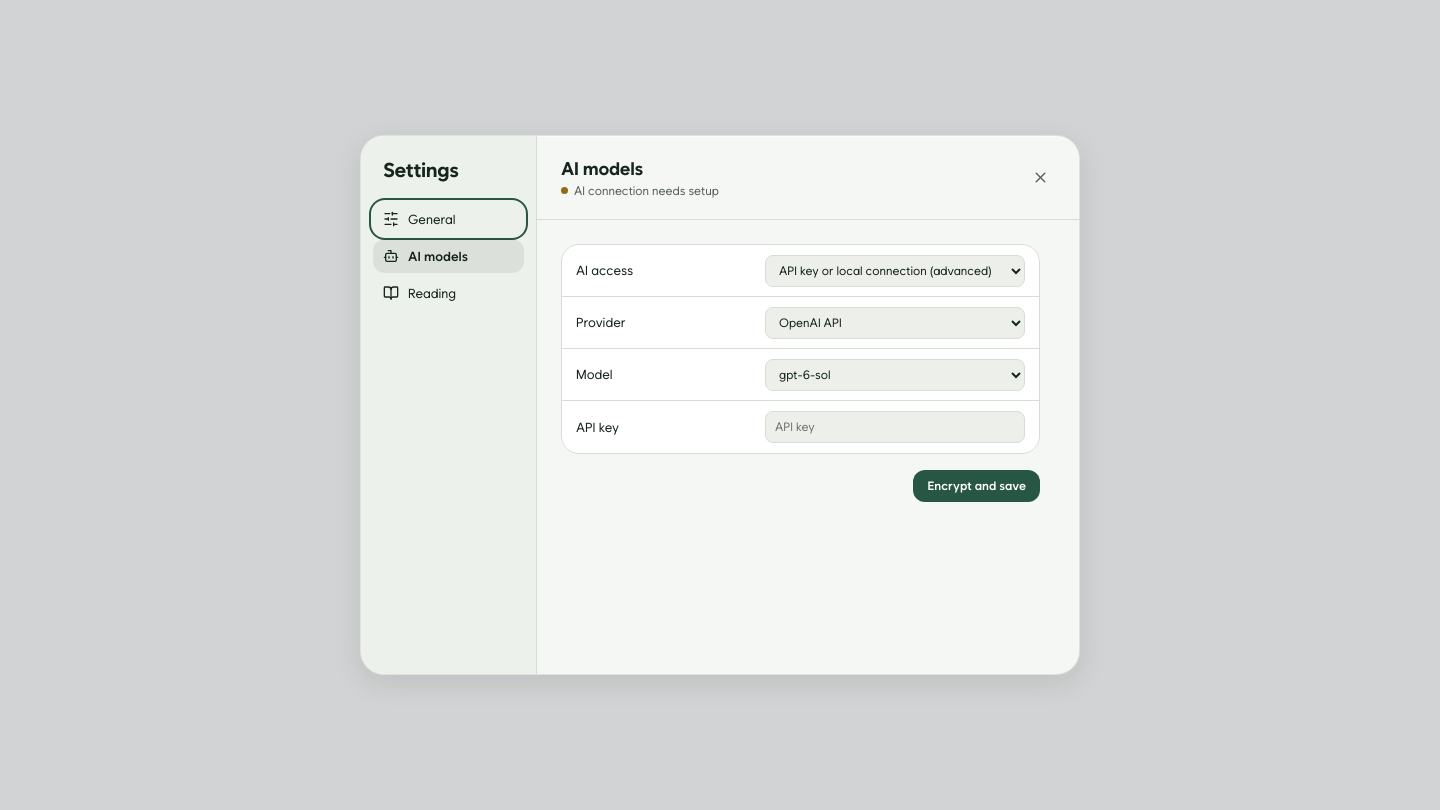
Test: settings in English › shows the dialog, its sections and the API form in English
Expected: the heading "AI models" is shown, left=561, top=158, right=643, bottom=178
Expected: the text "AI connection needs setup" is shown, left=561, top=184, right=719, bottom=198
Click the button "General".
click(448, 219)  # box left=373, top=202, right=524, bottom=236
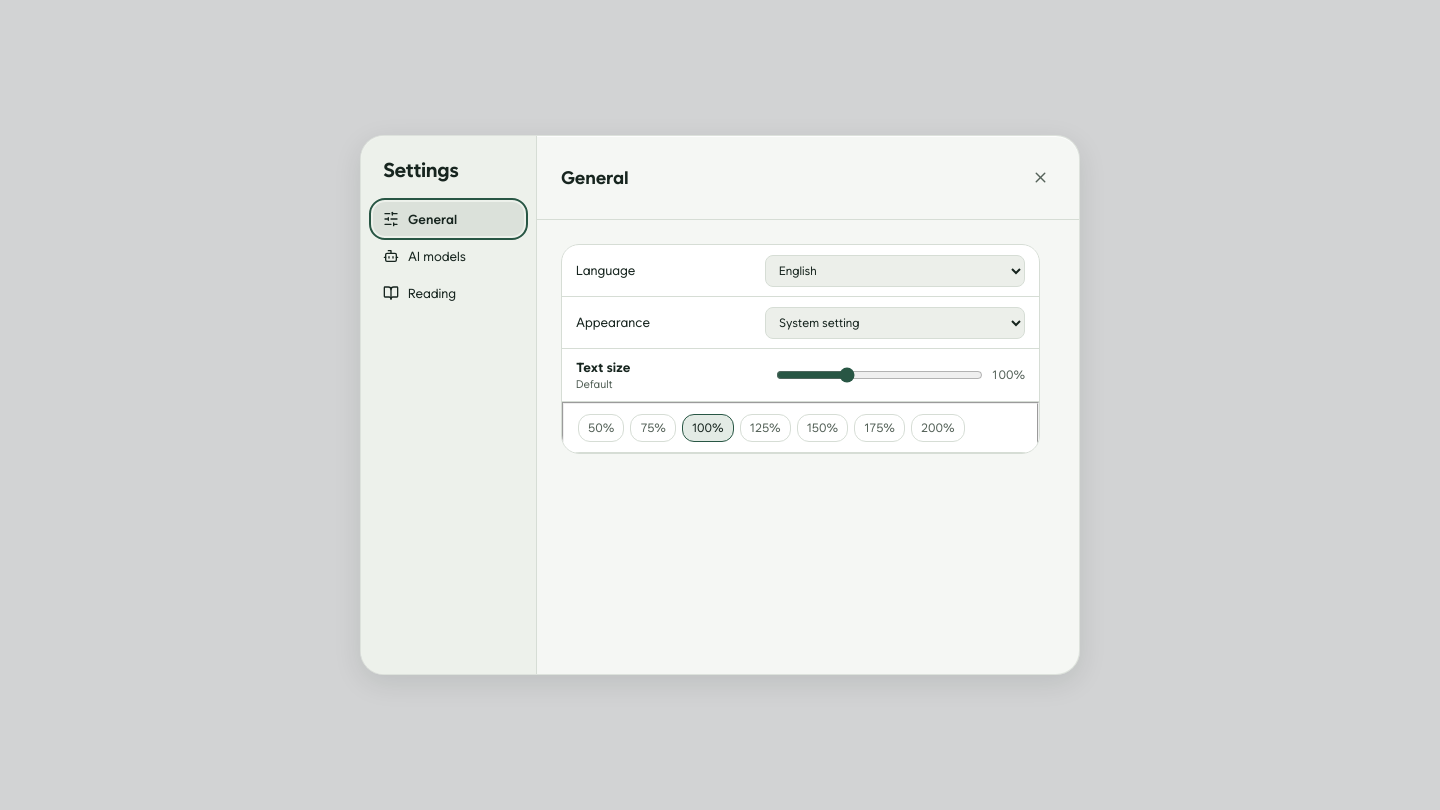
Expected: the dropdown labelled "Appearance" shows "System setting", left=765, top=306, right=1025, bottom=338
Expected: the text "Default" is shown, left=576, top=376, right=613, bottom=390
Expected: the element named "Text size presets" is shown, left=562, top=402, right=1039, bottom=453
Click the button "Reading".
click(448, 293)  # box left=373, top=276, right=524, bottom=310
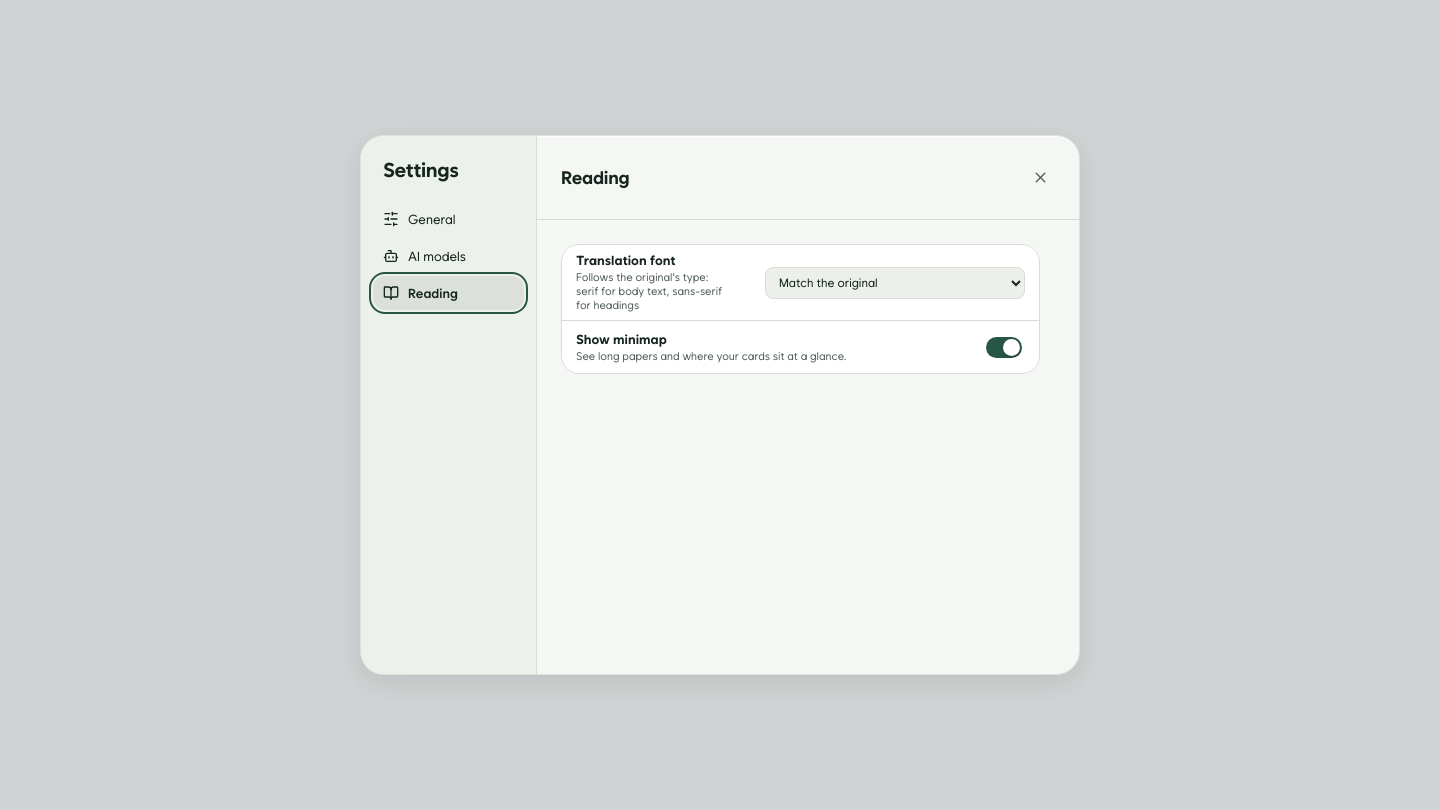
Expected: the dropdown labelled "Translation font" shows "Match the original", left=765, top=266, right=1025, bottom=298
Expected: the text "serif for body text, sans-serif for headings" is shown, left=576, top=270, right=722, bottom=312
Expected: the checkbox labelled "Show minimap" is checked, left=986, top=336, right=1022, bottom=358
